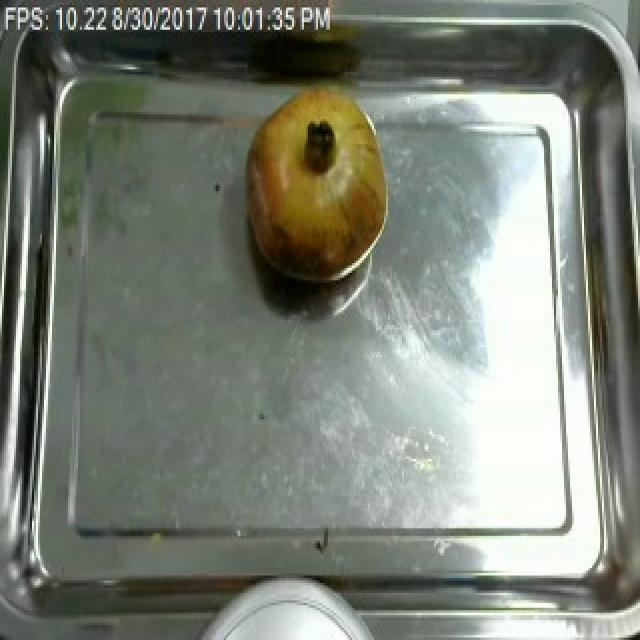fruit: (238, 79, 394, 293)
